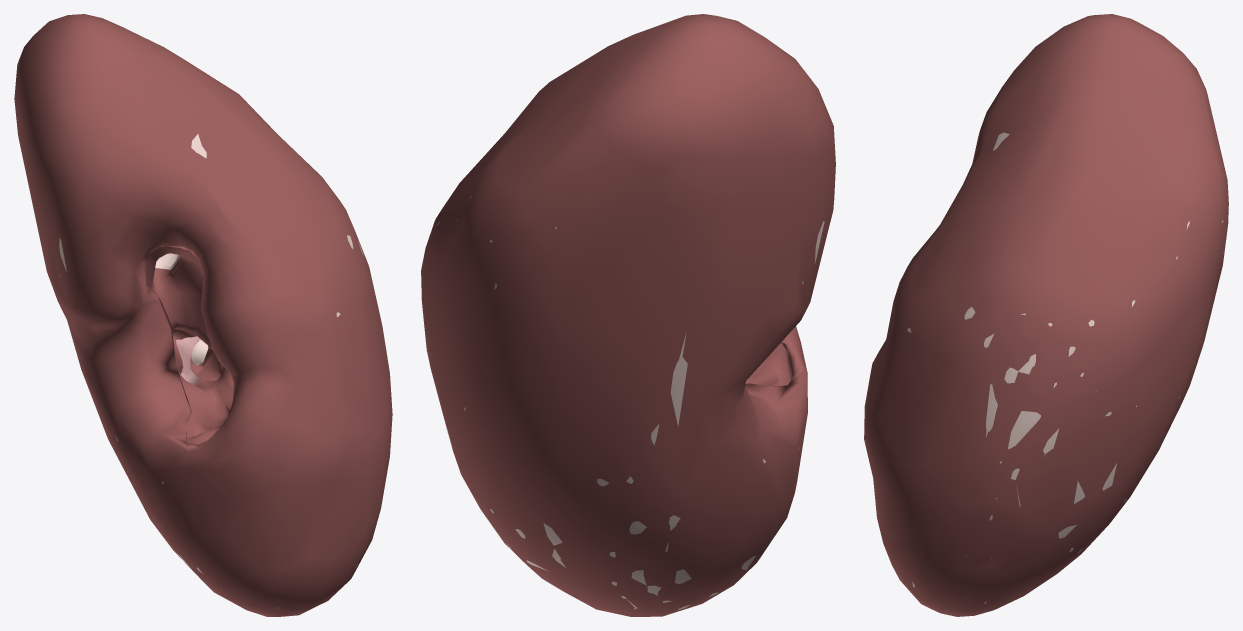
The model's file is vh_f_kidney_l.glb.
The picture shows the model from 3 angles, left to right: view 1: azimuth 30°, elevation 25°; view 2: azimuth 150°, elevation 25°; view 3: azimuth 270°, elevation 25°; orthographic projection. The views are drawn at different scales.
Parts seen in each view (by area): view 1: VH_F_kidney_capsule_L, VH_F_hilum_of_kidney_L, VH_F_renal_pyramid_L_g, VH_F_renal_column_L; view 2: VH_F_kidney_capsule_L, VH_F_outer_cortex_of_kidney_L, VH_F_hilum_of_kidney_L; view 3: VH_F_kidney_capsule_L, VH_F_outer_cortex_of_kidney_L.
Boxes of the visible parts, <box> form: VH_F_kidney_capsule_L: <box>14,14,392,616</box>; VH_F_hilum_of_kidney_L: <box>145,213,233,444</box>; VH_F_renal_pyramid_L_g: <box>176,336,201,385</box>; VH_F_renal_column_L: <box>155,253,208,365</box>; VH_F_kidney_capsule_L: <box>421,14,835,616</box>; VH_F_outer_cortex_of_kidney_L: <box>430,195,824,609</box>; VH_F_hilum_of_kidney_L: <box>745,343,790,386</box>; VH_F_kidney_capsule_L: <box>864,14,1228,616</box>; VH_F_outer_cortex_of_kidney_L: <box>907,132,1224,603</box>.
Bounding box in the file's own units: 0.0731 × 0.125 × 0.0774.
